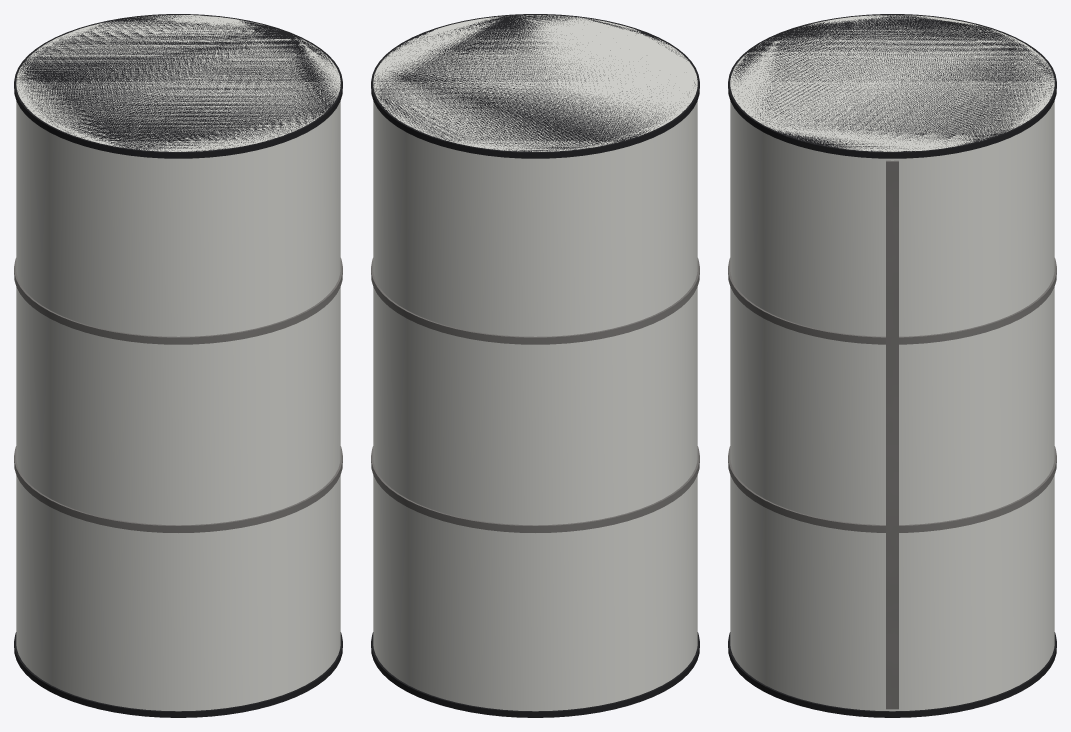
Rendered from tank13_tank_length_series_xs_long.glb.
The picture shows the model from 3 angles, left to right: view 1: azimuth 30°, elevation 25°; view 2: azimuth 150°, elevation 25°; view 3: azimuth 270°, elevation 25°; orthographic projection.
Visible parts, largest first — view 1: tank, stack_flanges, ring_frames; view 2: tank, stack_flanges, ring_frames; view 3: tank, stack_flanges, feedline, ring_frames.
Boxes of the visible parts, box(x1,y1,x2,y2) form: tank: box(16, 15, 340, 711); stack_flanges: box(14, 14, 342, 717); ring_frames: box(14, 258, 342, 532); tank: box(373, 15, 697, 711); stack_flanges: box(371, 14, 699, 717); ring_frames: box(371, 258, 699, 532); tank: box(730, 15, 1054, 711); stack_flanges: box(728, 14, 1056, 717); feedline: box(886, 160, 898, 709); ring_frames: box(728, 258, 1056, 532).
Size of the model in its own units: 0.6326 by 1.2 by 0.6328.
3 materials, 1 textured.
